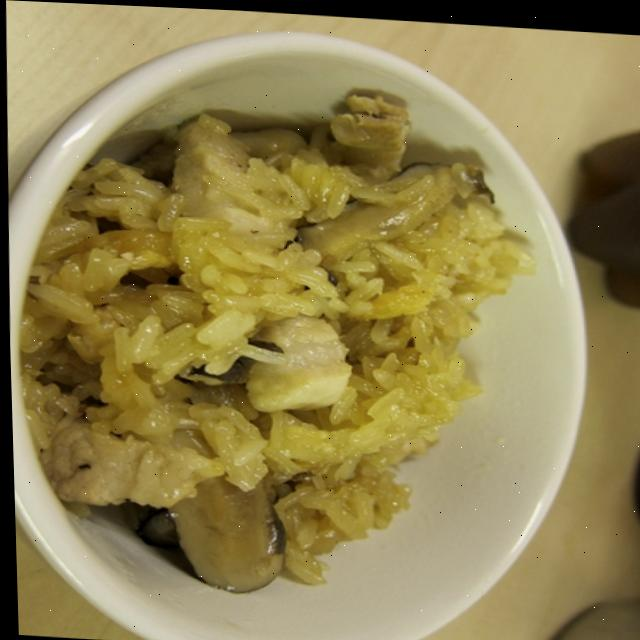米饭主食: (7, 45, 572, 635)
